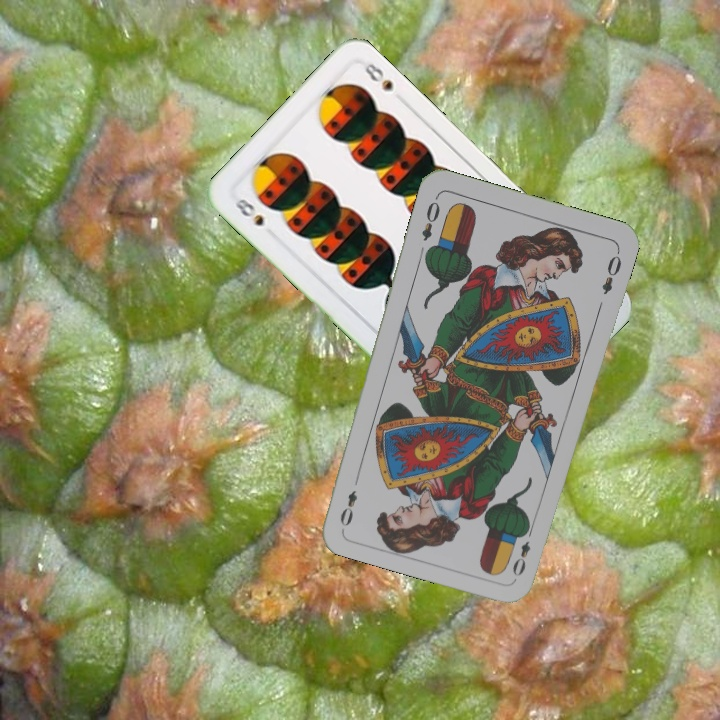EO: (508, 522, 536, 579), (417, 192, 443, 244)
S8: (231, 194, 267, 229)
